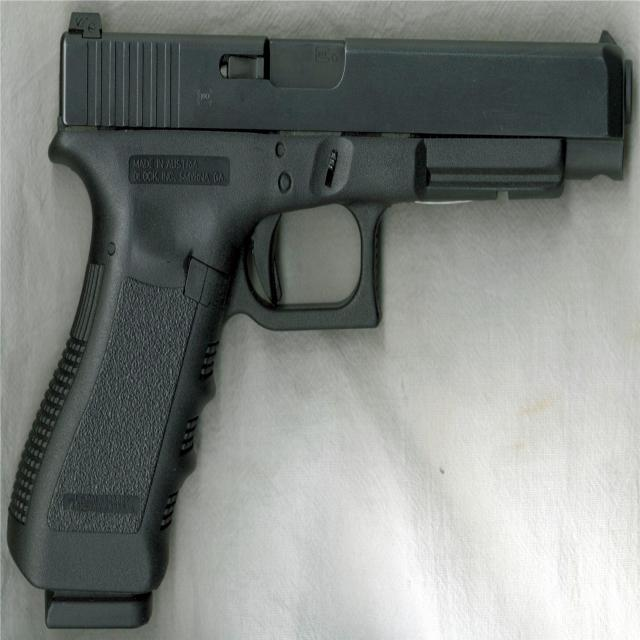pistol: (7, 13, 633, 617)
